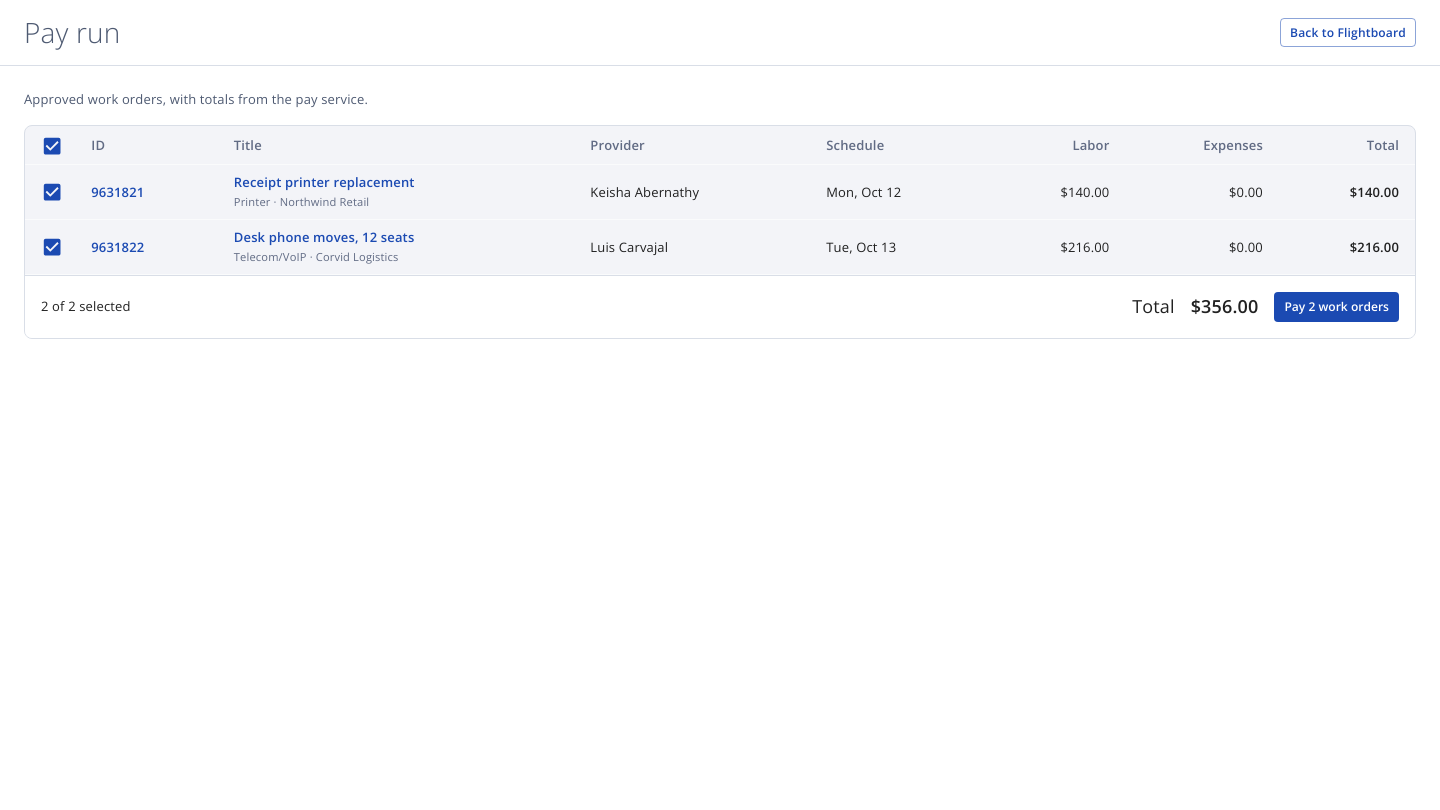
PayRunPage › labels the pay button for the selection and disables it when no rows are selected
Expected: the text "$356.00" is shown, 1191,294 -> 1258,320
Expected: the button "Pay 2 work orders" is enabled, 1274,292 -> 1399,322
Click the checkbox named "Select WO 9631822".
click(52, 247)  # box 41,236 -> 63,259
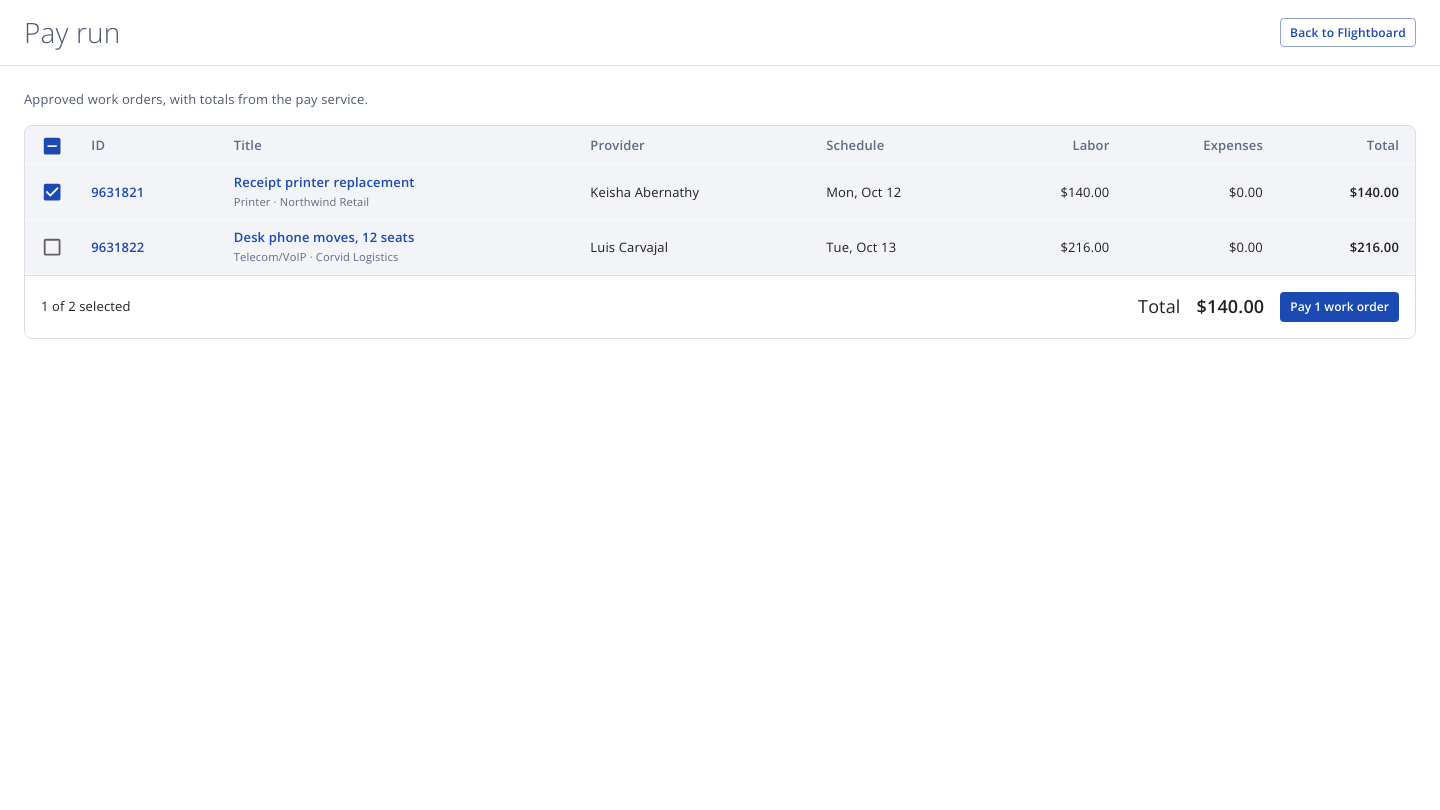
Click the button "Pay 1 work order".
click(1340, 307)  # box 1280,292 -> 1399,322
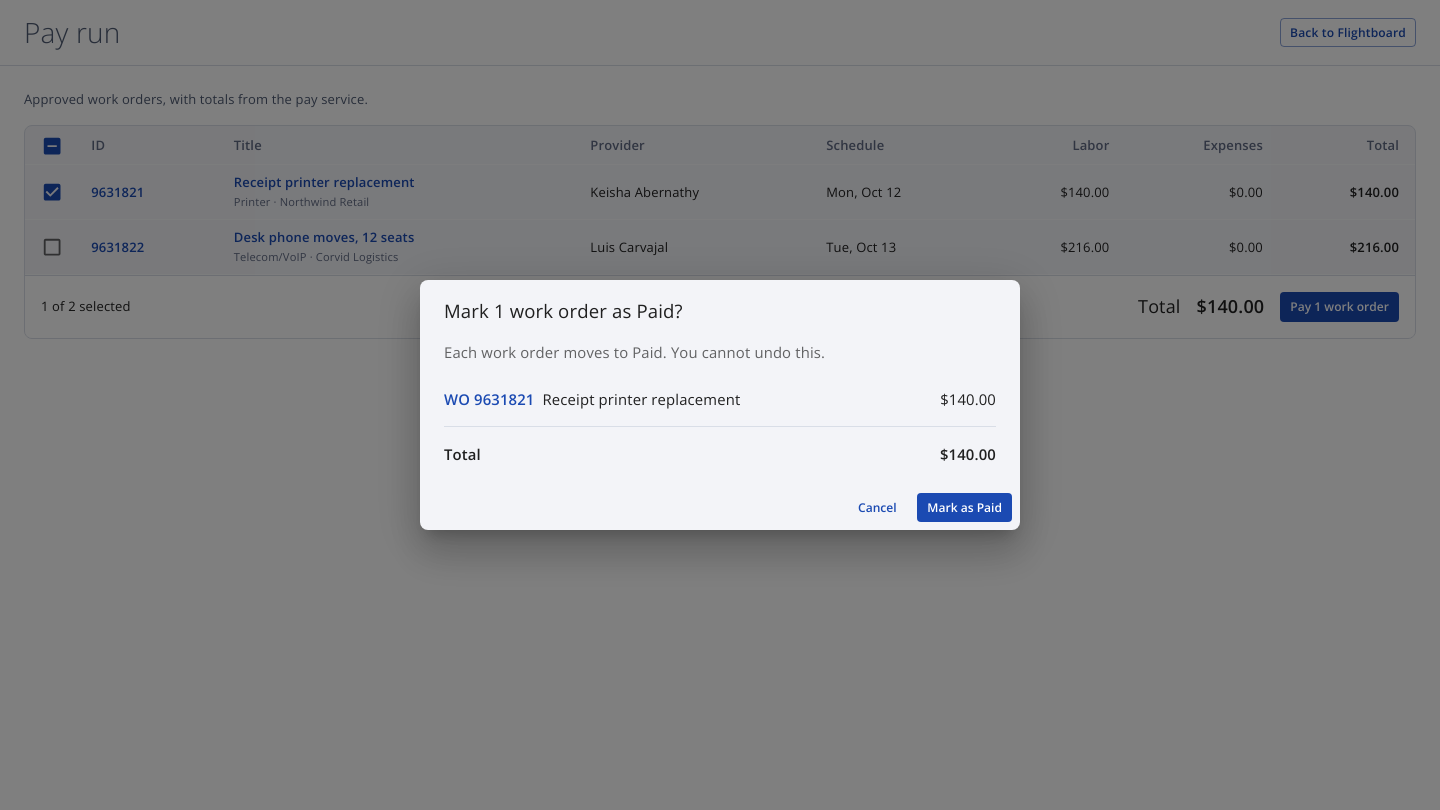
Expected: the text "WO 9631821" is shown, 444,388 -> 534,410
Expected: the text "$140.00" is shown 2 times, 940,388 -> 996,410; 940,443 -> 996,465
Click the button "Cancel".
click(877, 508)  # box 845,493 -> 909,522
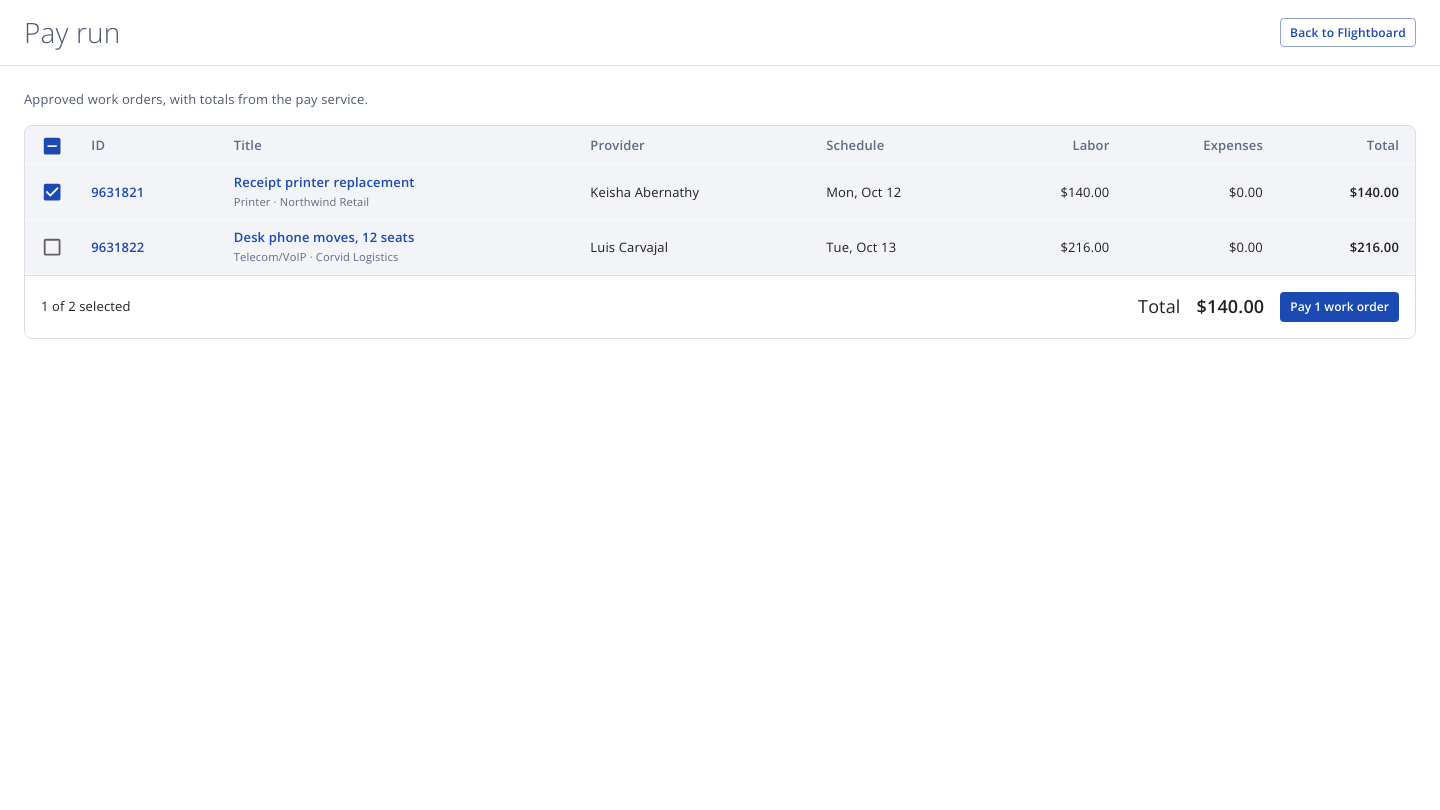
Expected: the dialog is gone
Click the checkbox named "Select WO 9631821".
click(52, 192)  # box 41,181 -> 63,204
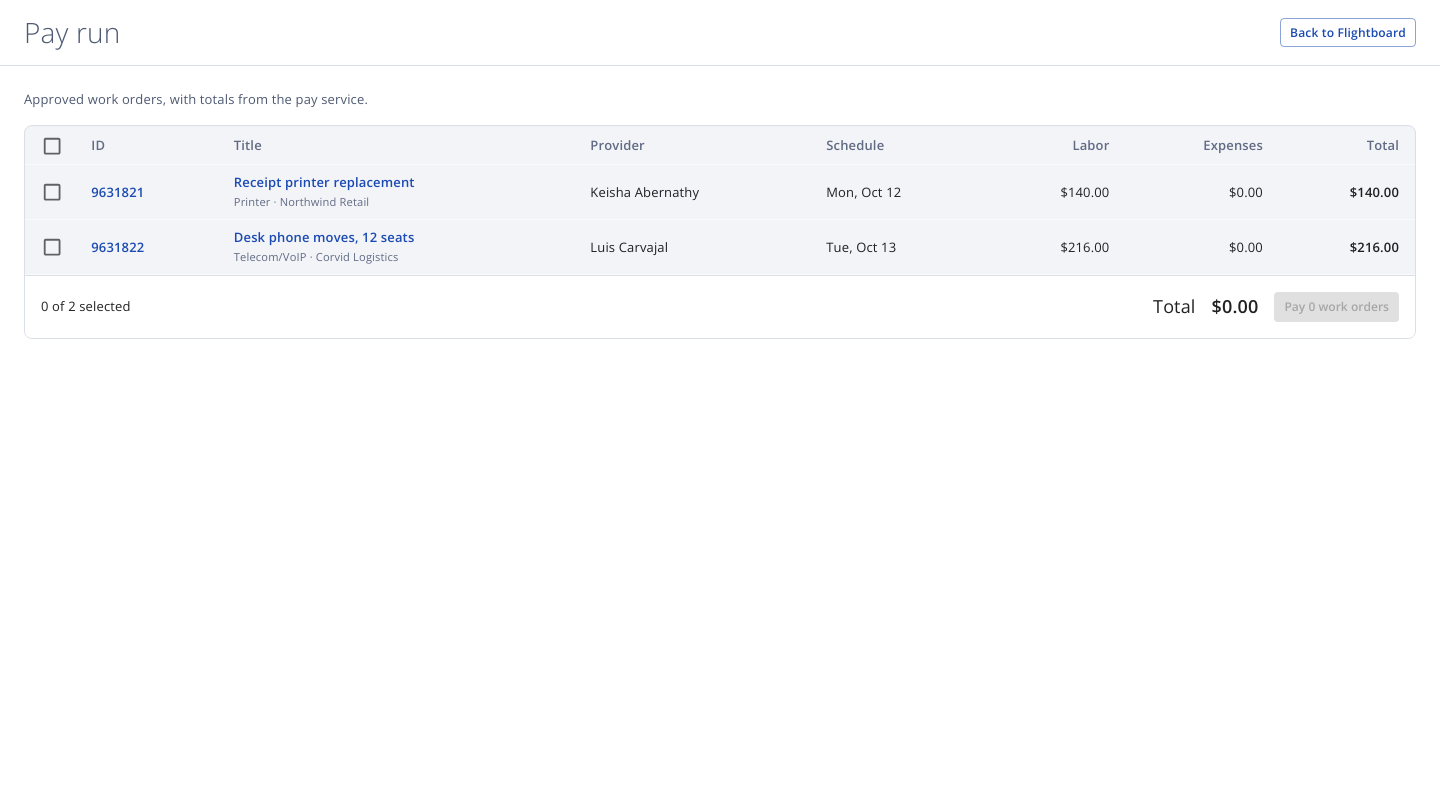
Expected: the button "Pay 0 work orders" is disabled, 1274,292 -> 1399,322
